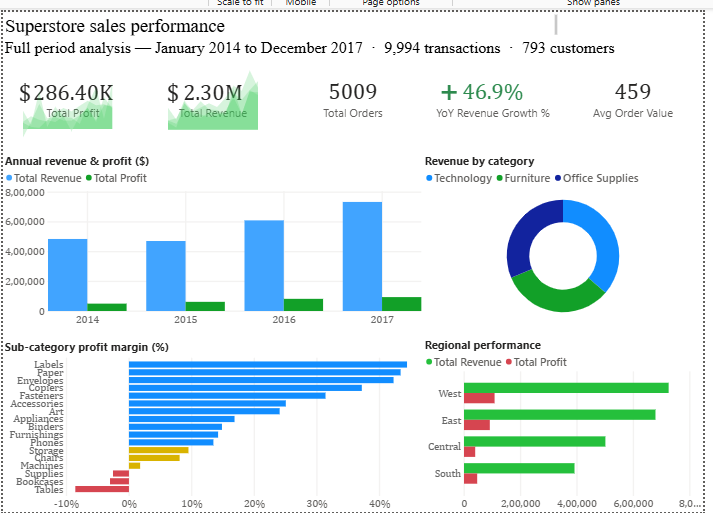

The dashboard page shown, as its layout file describes it:
{"tool":"powerbi","page":{"name":"Page 1","canvas":[2100,1500],"ordinal":0},"visuals":[{"type":"card","fields":{"Values":["Orders.Total Profit"]},"box":[0,156,420,201],"z":0},{"type":"card","fields":{"Values":["Orders.Total Revenue"]},"box":[420,156,420,201],"z":1000},{"type":"card","fields":{"Values":["Orders.Total Orders"]},"box":[840,156,420,198],"z":2000},{"type":"card","fields":{"Values":["Orders.YoY Revenue Growth %"]},"box":[1260,156,420,198],"z":3000},{"type":"card","fields":{"Values":["Orders.Avg Order Value"]},"box":[1680,156,420,198],"z":4000},{"type":"clusteredColumnChart","title":"Annual revenue & profit ($)","fields":{"Y":["Orders.Total Revenue","Orders.Total Profit"],"Category":["Orders.Order Date Hierarchy.Year"]},"box":[0,423,1260,525],"z":5000},{"type":"donutChart","title":"Revenue by category","fields":{"Y":["Orders.Total Revenue"],"Category":["Orders.Category"]},"box":[1260,423,840,525],"z":6000},{"type":"clusteredBarChart","title":"Sub-category profit margin (%)","fields":{"Category":["Orders.Sub-Category"],"Y":["Orders.Profit Margin %"]},"box":[0,981,1260,519],"z":7000},{"type":"textbox","box":[0,3,1668,72],"z":8000},{"type":"textbox","box":[0,75,1977,78],"z":9000},{"type":"textbox","box":[1305,183,96,141],"z":10000},{"type":"textbox","box":[45,180,165,174],"z":11000},{"type":"textbox","box":[489,180,165,174],"z":12000},{"type":"clusteredBarChart","title":"Regional performance","fields":{"Y":["Orders.Total Revenue","Orders.Total Profit"],"Category":["Orders.Region"]},"box":[1260,975,840,525],"z":13000},{"type":"areaChart","fields":{"Y":["Orders.Total Profit"],"Category":["Orders.Month"],"Series":["Orders.Year"]},"box":[46.4,182.7,297.3,212.7],"z":13001},{"type":"areaChart","fields":{"Category":["Orders.Month"],"Series":["Orders.Year"],"Y":["Orders.Total Revenue"]},"box":[480,159,300,200],"z":13002}]}

Visuals, with their boxes on the page's 2100x1500 design canvas (x1, y1, x2, y2). These are canvas units, not pixel positions in the 713x513 screenshot, which may show the page scaled, cropped or inside an application window:
card - Orders.Total Profit: <box>0,156,420,357</box>
card - Orders.Total Revenue: <box>420,156,840,357</box>
card - Orders.Total Orders: <box>840,156,1260,354</box>
card - Orders.YoY Revenue Growth %: <box>1260,156,1680,354</box>
card - Orders.Avg Order Value: <box>1680,156,2100,354</box>
"Annual revenue & profit ($)" clusteredColumnChart: <box>0,423,1260,948</box>
"Revenue by category" donutChart: <box>1260,423,2100,948</box>
"Sub-category profit margin (%)" clusteredBarChart: <box>0,981,1260,1500</box>
textbox: <box>0,3,1668,75</box>
textbox: <box>0,75,1977,153</box>
textbox: <box>1305,183,1401,324</box>
textbox: <box>45,180,210,354</box>
textbox: <box>489,180,654,354</box>
"Regional performance" clusteredBarChart: <box>1260,975,2100,1500</box>
areaChart - Orders.Total Profit x Orders.Month: <box>46,183,344,395</box>
areaChart - Orders.Month x Orders.Year: <box>480,159,780,359</box>
